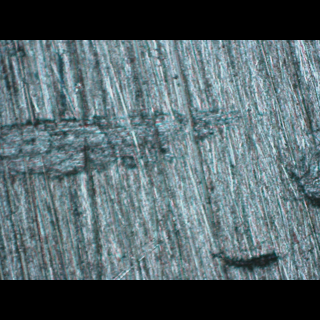d: (0, 103, 239, 179)
